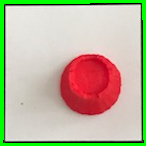Red Castle: (55, 51, 124, 117)
